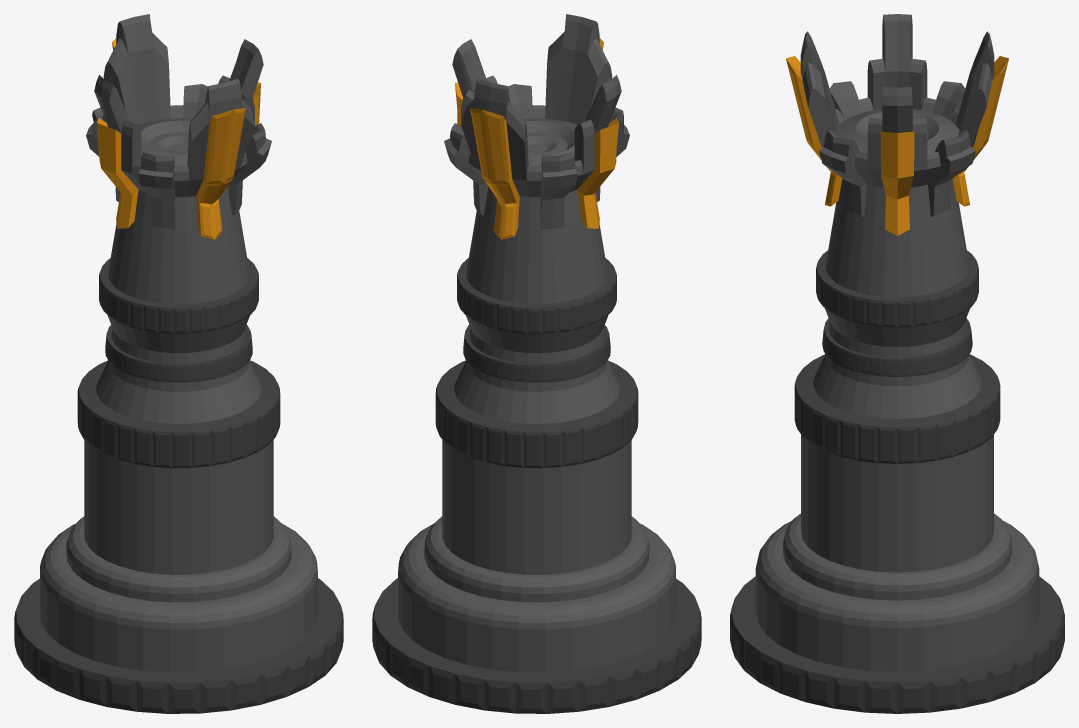
File: ProjectileTower.fbx
The picture shows the model from 3 angles, left to right: view 1: azimuth 30°, elevation 25°; view 2: azimuth 150°, elevation 25°; view 3: azimuth 270°, elevation 25°; orthographic projection.
Visible parts, largest first — view 1: Cylinder; view 2: Cylinder; view 3: Cylinder.
Boxes of the visible parts, x1,y1,x2,y2 form: Cylinder: (14, 14, 343, 713); Cylinder: (372, 14, 701, 713); Cylinder: (730, 14, 1064, 713).
Size of the model in its own units: 347 by 691 by 347.
